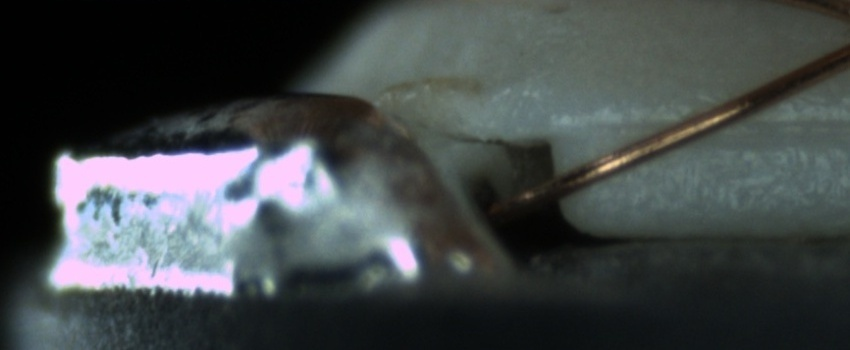DL: (607, 89, 846, 160)
